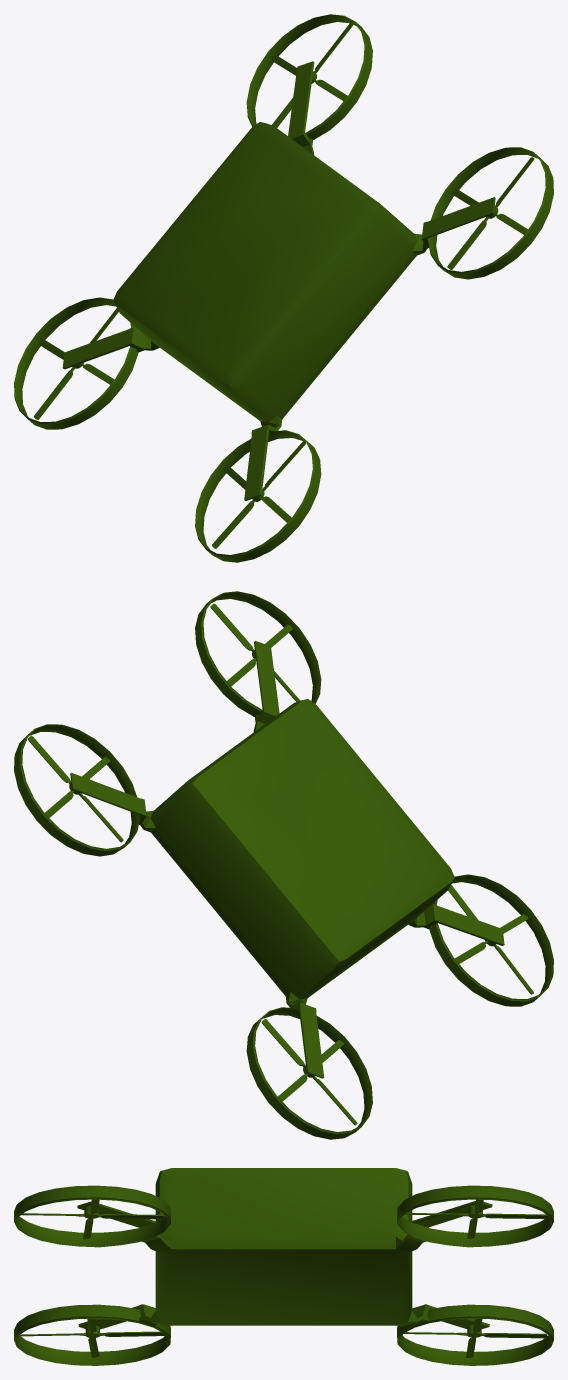
The model's file is Drone.fbx.
3 views of the same model, one above another, from view 1: azimuth 30°, elevation 25°; view 2: azimuth 150°, elevation 25°; view 3: azimuth 270°, elevation 25° (orthographic). The views are drawn at different scales.
Visible parts, largest first — view 1: Helize2.001, Helize2.005, Helize2.003, Helize2.004, Helize2.002; view 2: Helize2.001, Helize2.002, Helize2.004, Helize2.003, Helize2.005; view 3: Helize2.001, Helize2.003, Helize2.004, Helize2.002, Helize2.005.
Boxes of the visible parts, x1,y1,x2,y2 form: Helize2.001: [14, 14, 553, 562]; Helize2.005: [212, 441, 305, 548]; Helize2.003: [447, 157, 534, 269]; Helize2.004: [33, 308, 118, 419]; Helize2.002: [271, 23, 352, 127]; Helize2.001: [14, 591, 553, 1139]; Helize2.002: [27, 735, 123, 842]; Helize2.004: [261, 1019, 357, 1125]; Helize2.003: [210, 603, 300, 701]; Helize2.005: [448, 884, 533, 994]; Helize2.001: [14, 1168, 553, 1365]; Helize2.003: [21, 1199, 164, 1239]; Helize2.004: [404, 1319, 547, 1358]; Helize2.002: [404, 1199, 548, 1238]; Helize2.005: [19, 1319, 165, 1357].
Bounding box in the file's own units: 4196 × 3913 × 5572.
